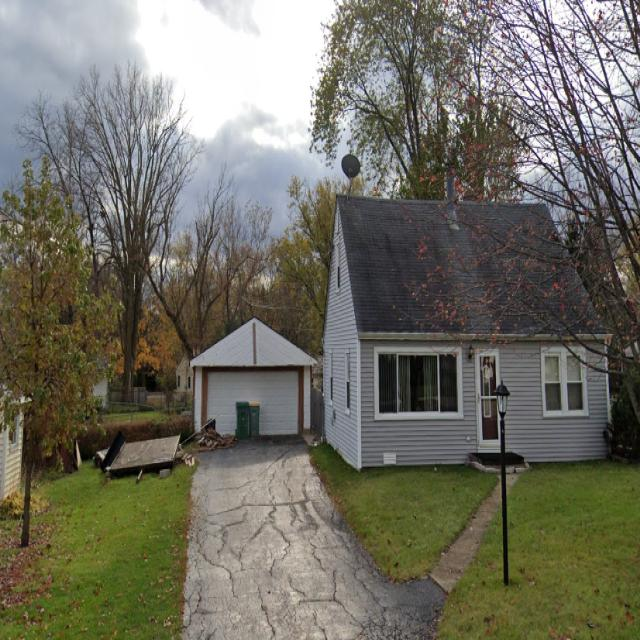House: (322, 163, 614, 472), (0, 378, 33, 512)
